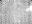person: (25, 5, 31, 12)
